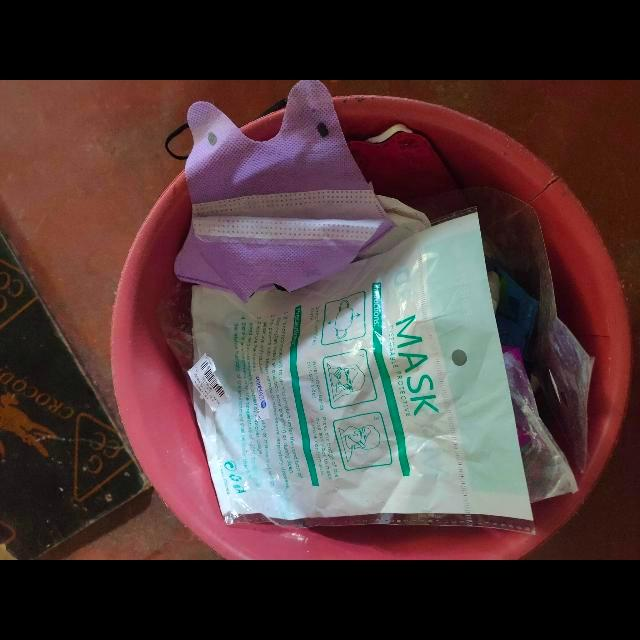plastic_sachet: (185, 210, 535, 534)
